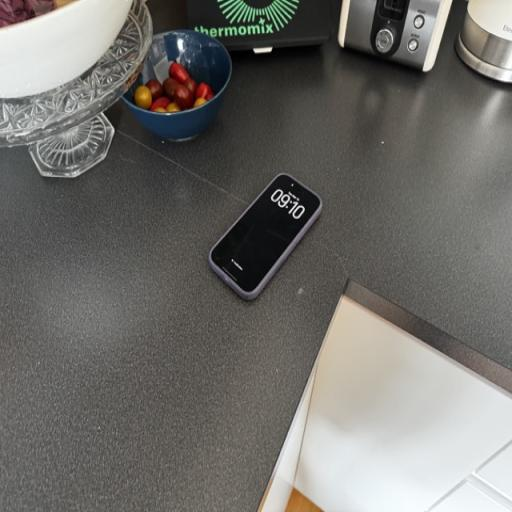phone: (216, 168, 321, 314)
